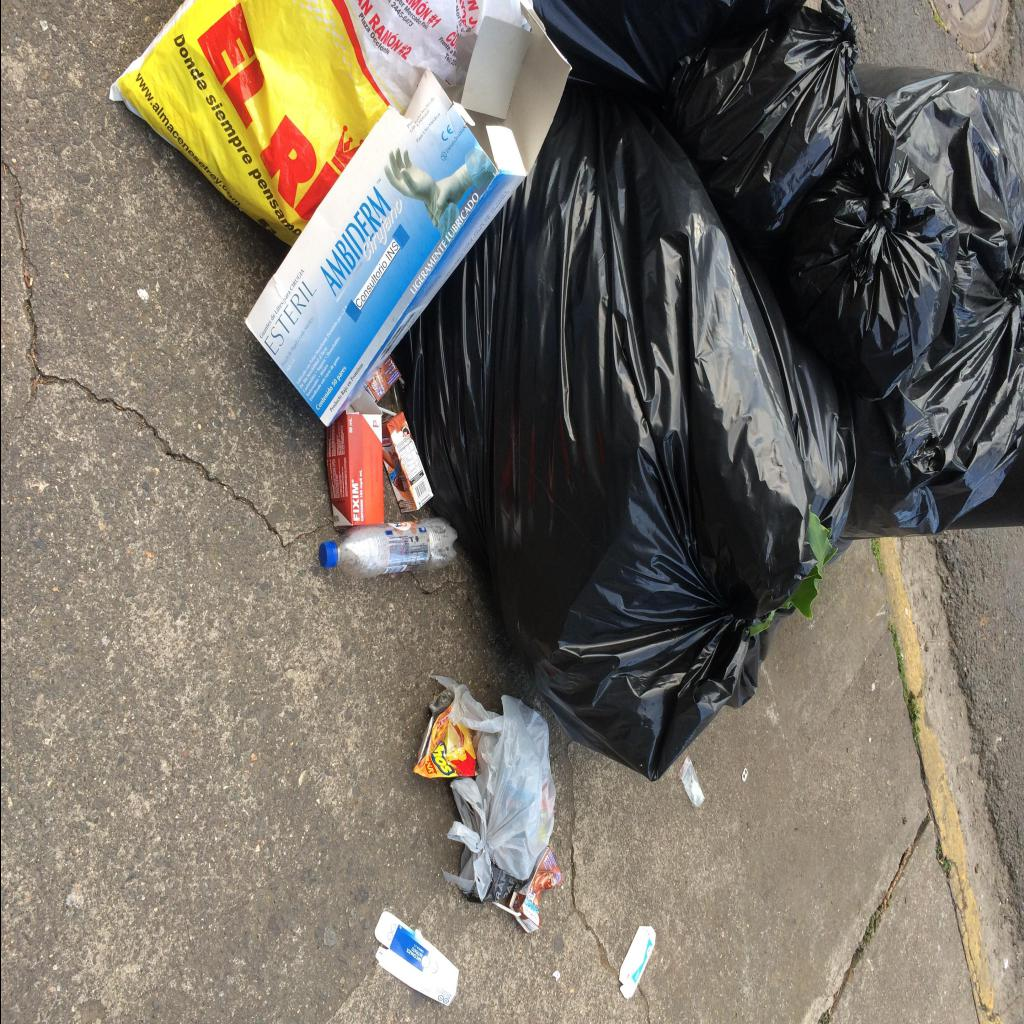Clear plastic bottle: (318, 518, 456, 578)
Garbage bag: (399, 74, 855, 782), (838, 72, 1024, 540), (771, 93, 959, 402), (663, 0, 859, 242)
Other carton: (243, 2, 571, 426), (374, 912, 458, 1006), (325, 390, 383, 526), (618, 926, 654, 1000)
Plastic bottle cap: (318, 541, 334, 568)
Plastic film: (676, 754, 704, 808)
Plastic straw: (491, 902, 521, 916), (377, 406, 395, 416)
Pop tab: (740, 768, 746, 782)
Single-use carrier bag: (109, 0, 532, 248), (442, 683, 554, 904)
